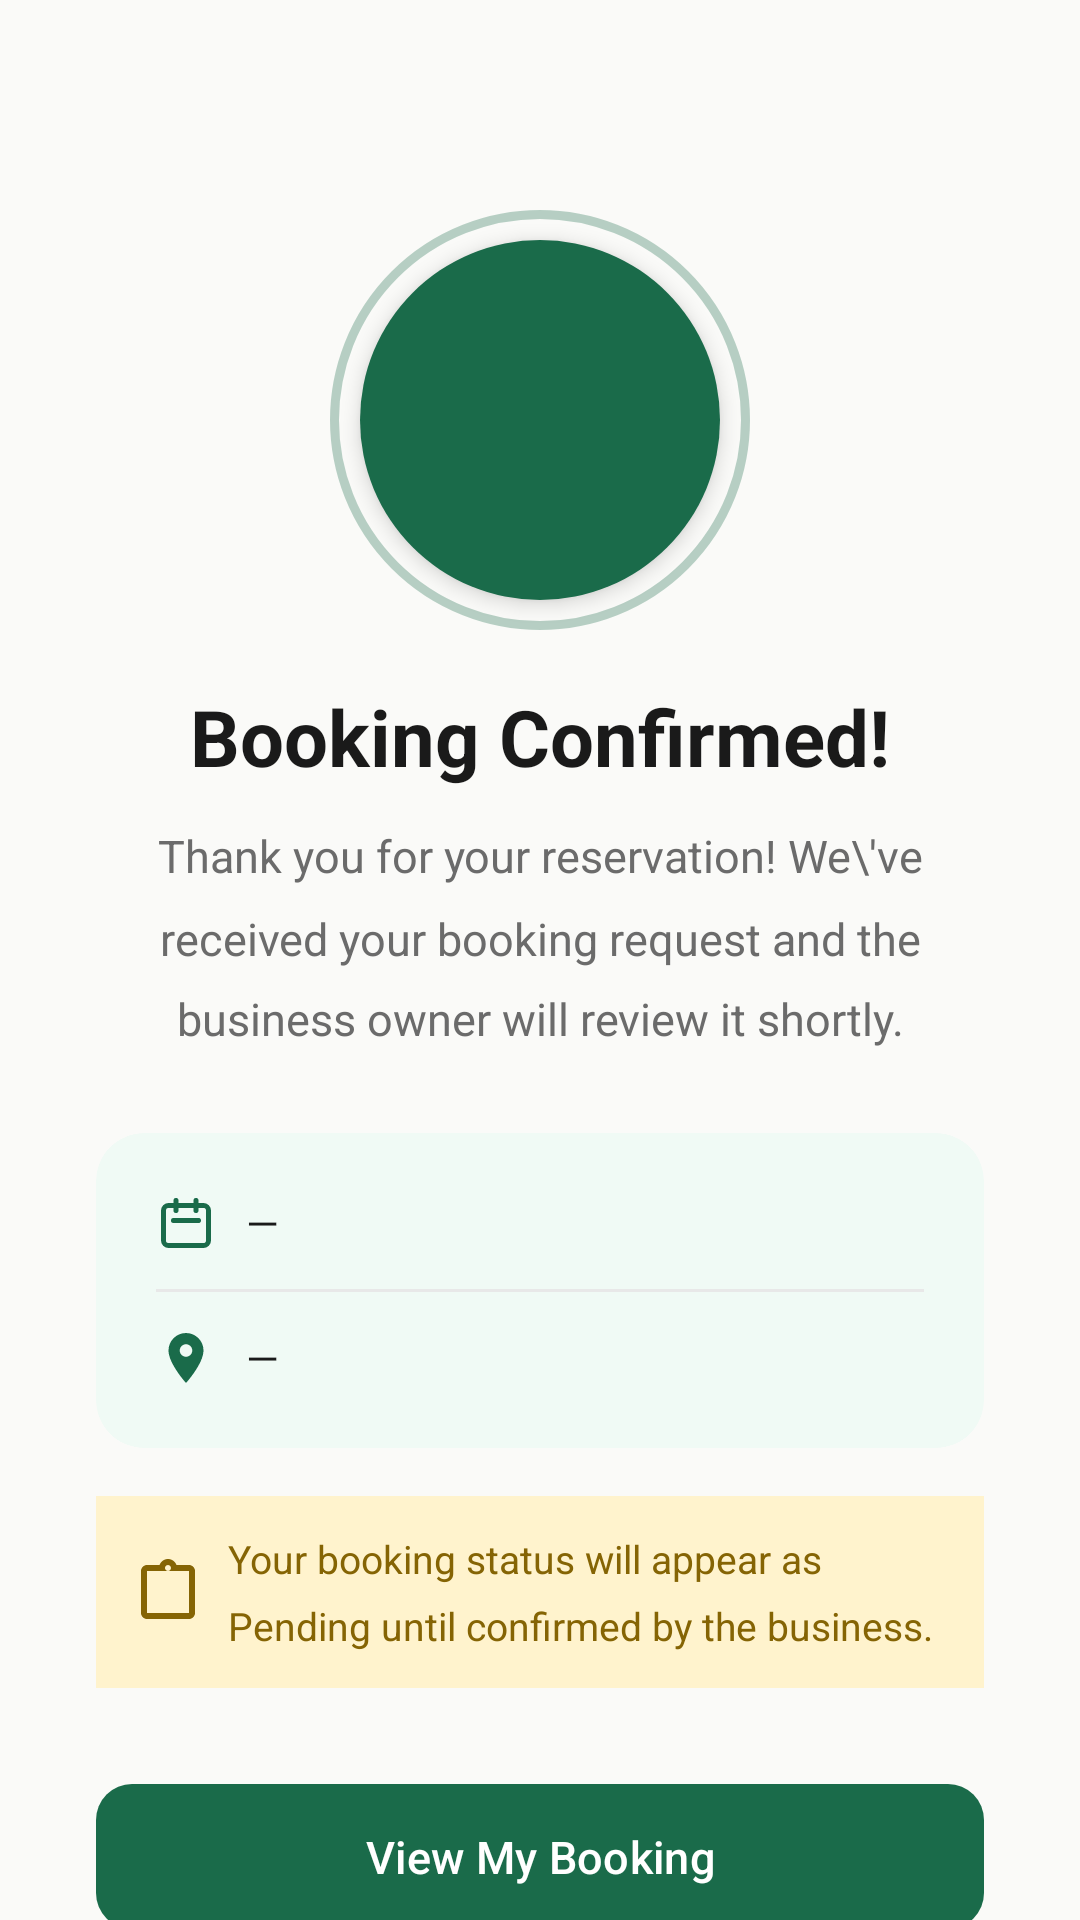

Where to tap for icons on this 1080x1920 app screen, as [x,y]:
calendar: [186,1223]
pin: [186,1358]
